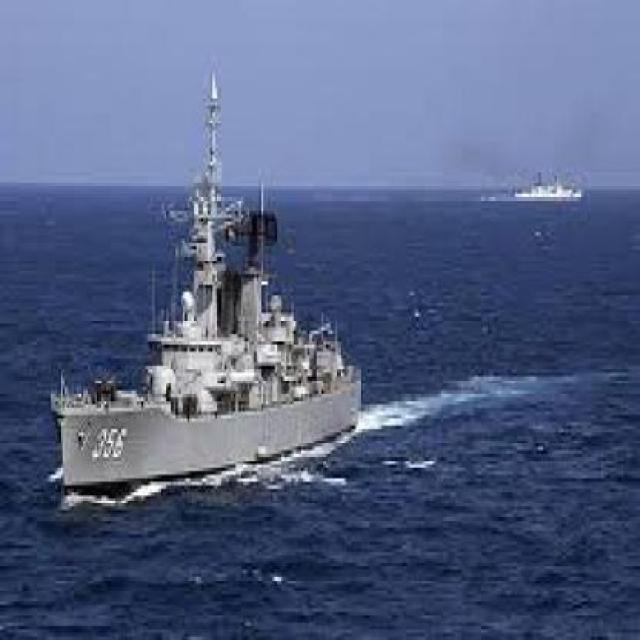warship2: (49, 53, 378, 518)
